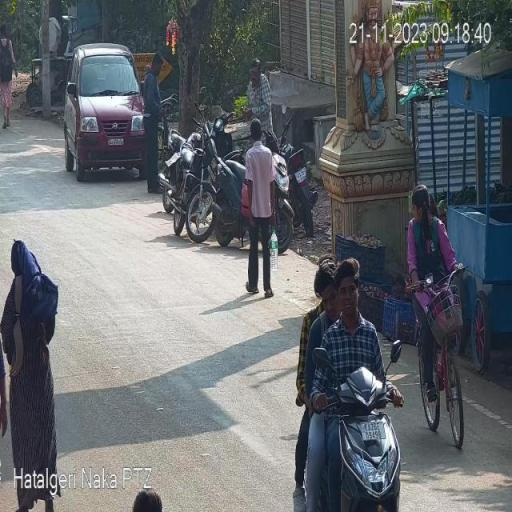tripple riding: (295, 250, 403, 415)
